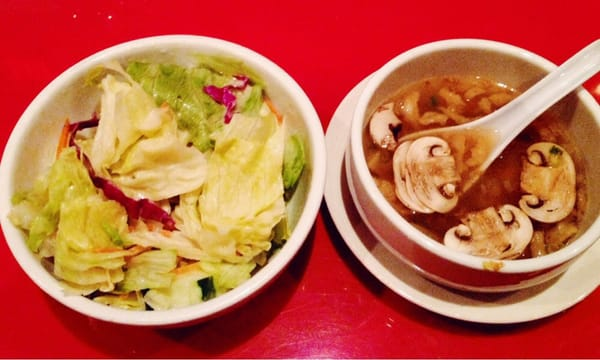salad: (379, 35, 600, 214)
sushi: (1, 34, 328, 331), (339, 33, 600, 298)
